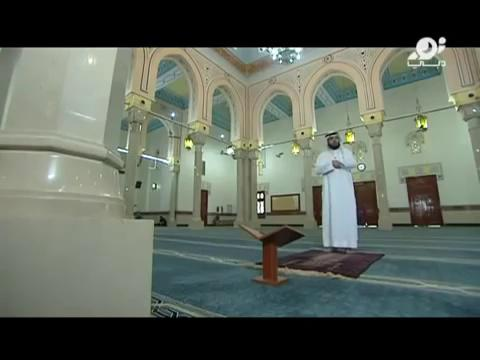qiyam: (312, 128, 364, 258)
